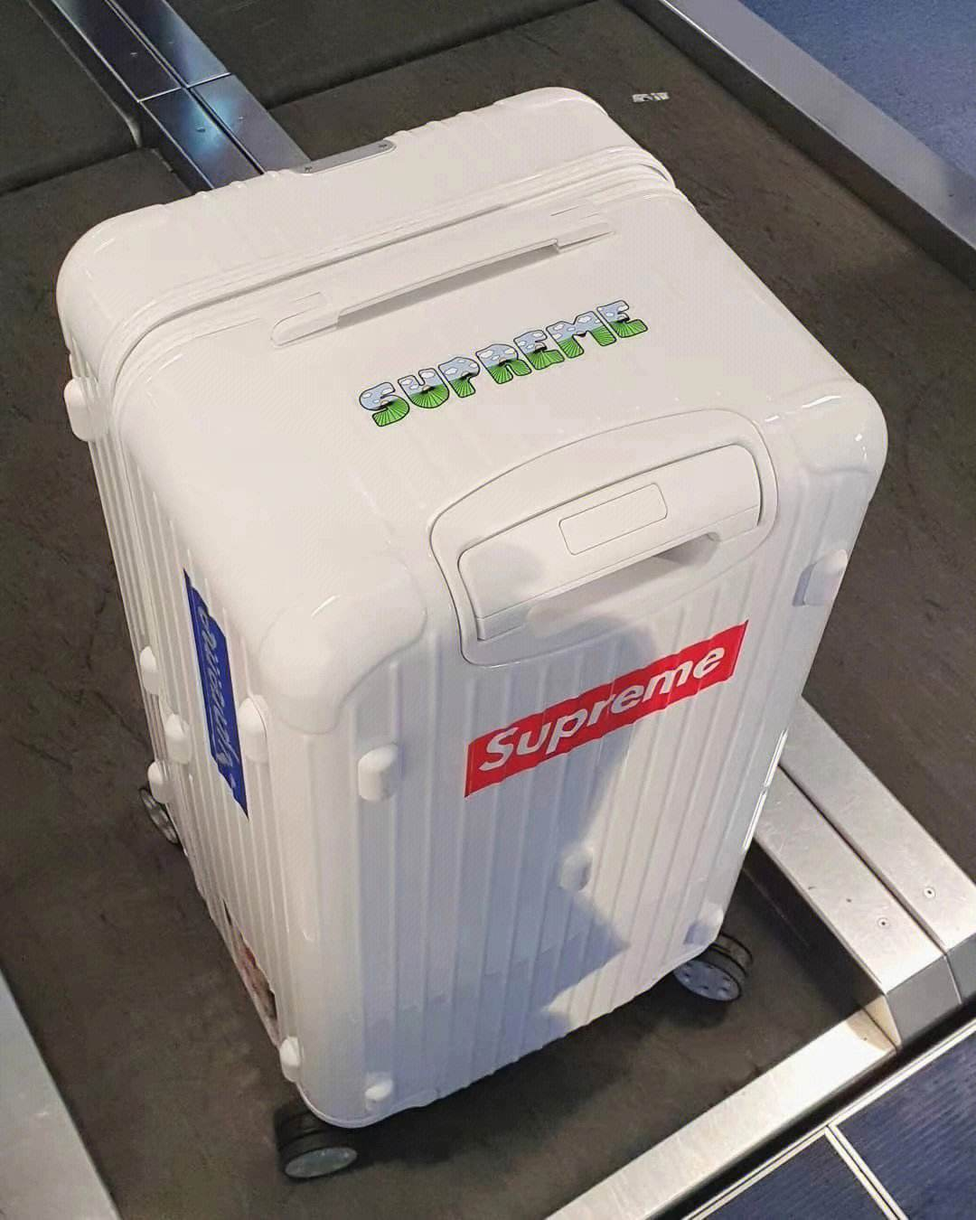box: (52, 86, 888, 1124)
handle: (259, 195, 618, 350)
wheel: (274, 1095, 361, 1182), (671, 927, 755, 1002)
